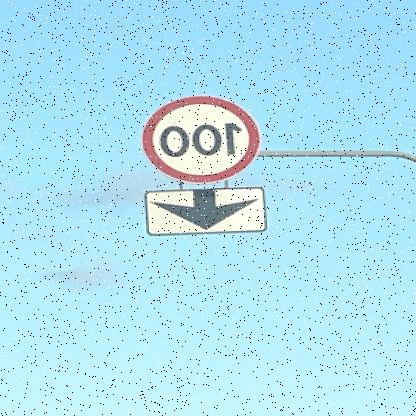speedlimit: (143, 94, 263, 182)
